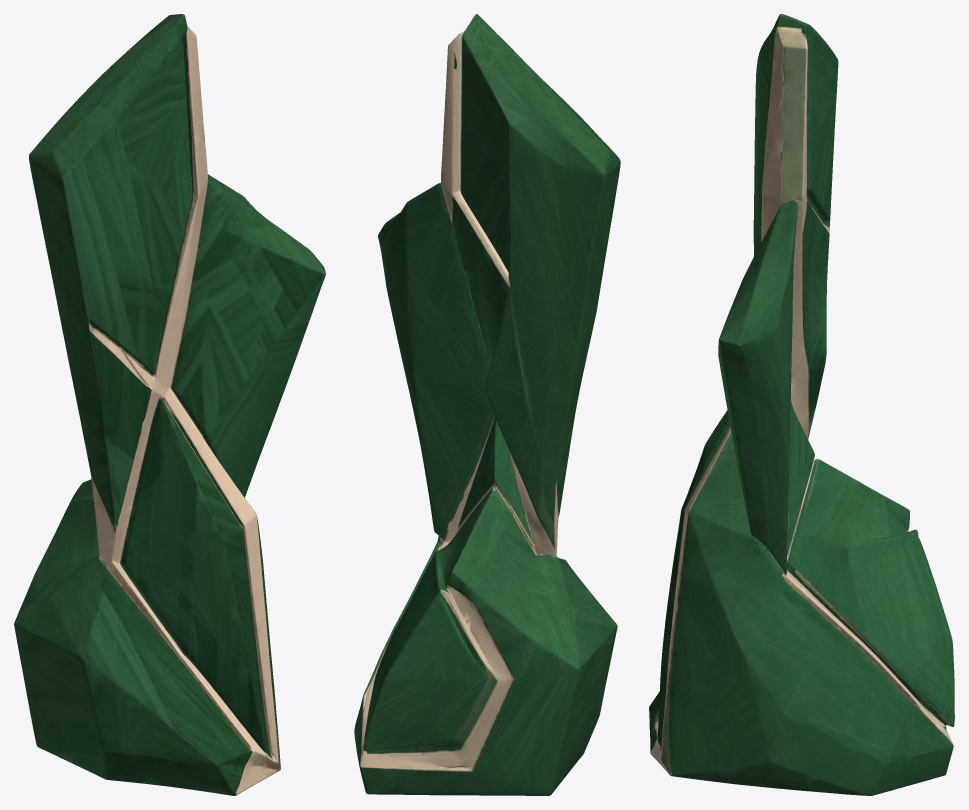
File: pillar.glb
3 renders of one model, left to right at view 1: azimuth 30°, elevation 25°; view 2: azimuth 150°, elevation 25°; view 3: azimuth 270°, elevation 25°, orthographic. The views are drawn at different scales.
Size of the model in its own units: 0.7091 by 1.9 by 0.7056.
Materials: 1 (1 with a texture image).
